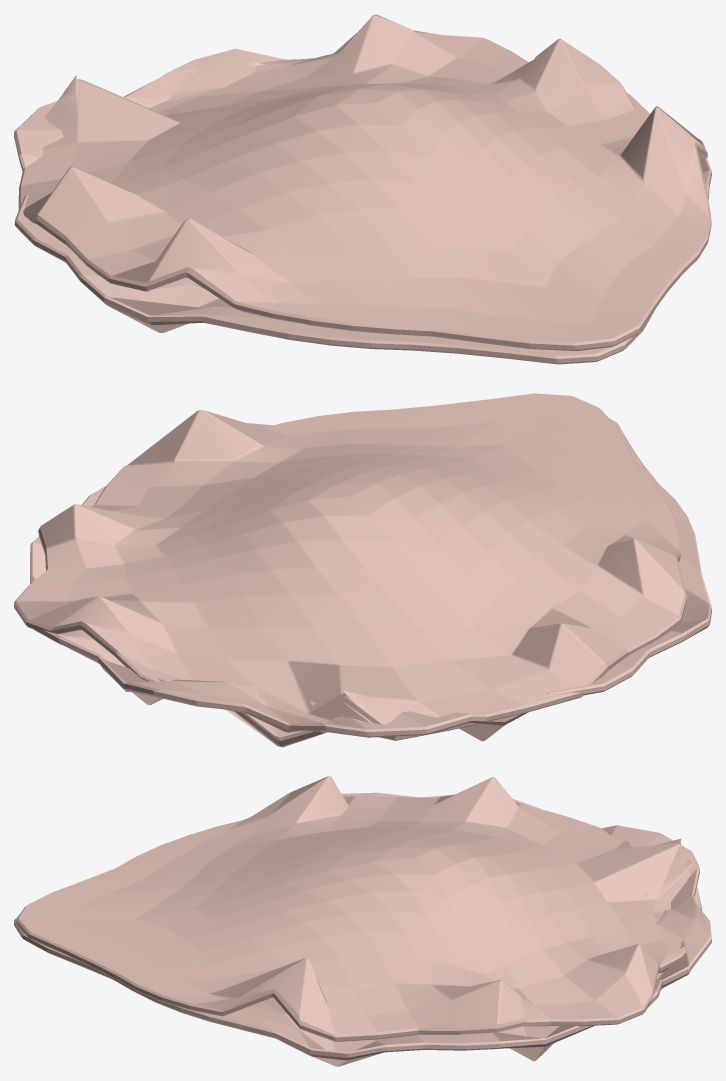
Rendered from Closed Seashell Spikey.fbx.
3 views of the same model, one above another, from view 1: azimuth 30°, elevation 25°; view 2: azimuth 150°, elevation 25°; view 3: azimuth 270°, elevation 25° (orthographic). The views are drawn at different scales.
Parts seen in each view (by area): view 1: Closed_Seashell_Spikey; view 2: Closed_Seashell_Spikey; view 3: Closed_Seashell_Spikey.
Boxes of the visible parts, box(x1,y1,x2,y2) form: Closed_Seashell_Spikey: box(14, 14, 711, 364); Closed_Seashell_Spikey: box(14, 393, 711, 747); Closed_Seashell_Spikey: box(14, 776, 711, 1066).
Bounding box in the file's own units: 2.41 × 0.6753 × 2.79.
